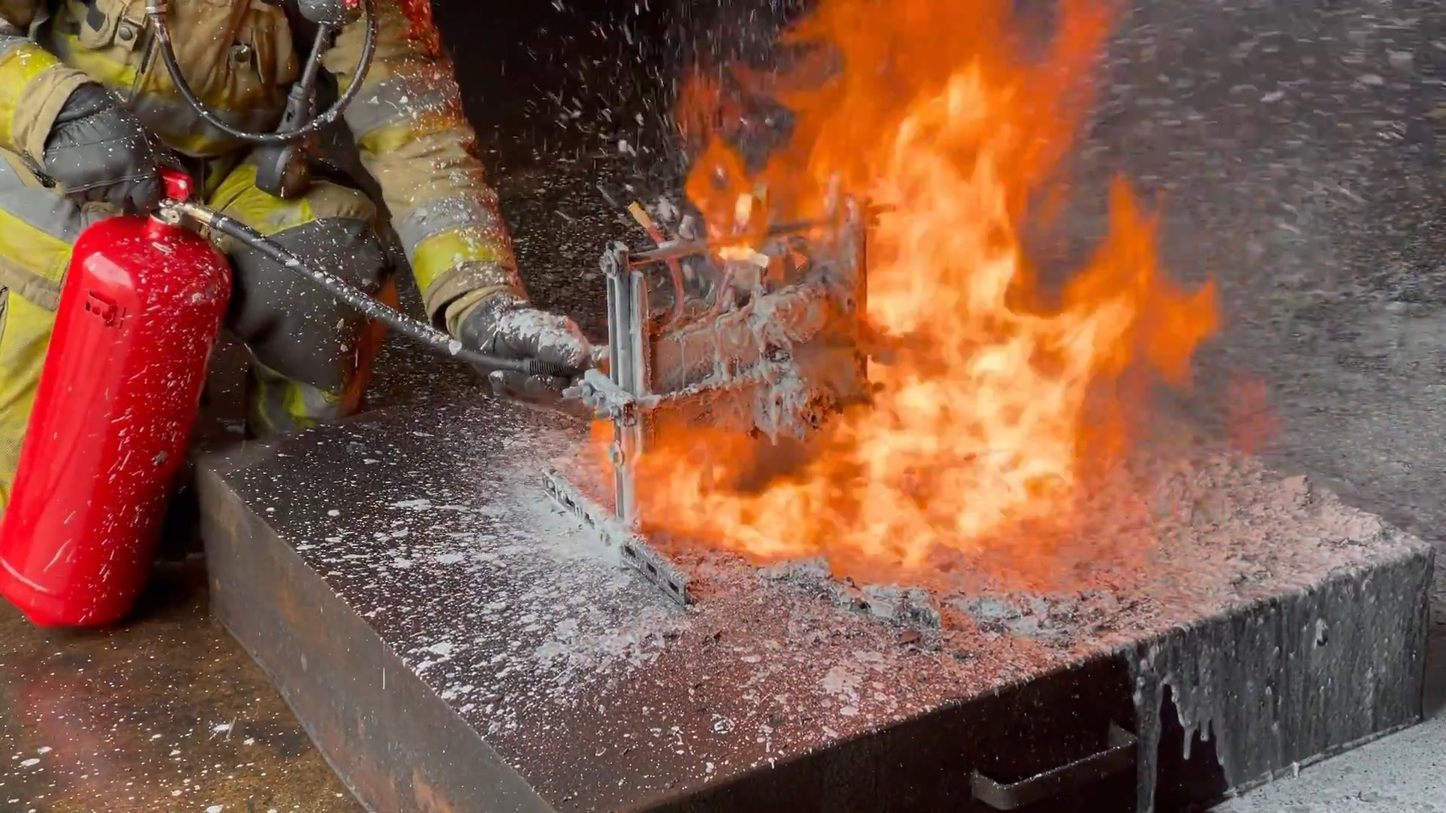fire: (588, 0, 1221, 594)
